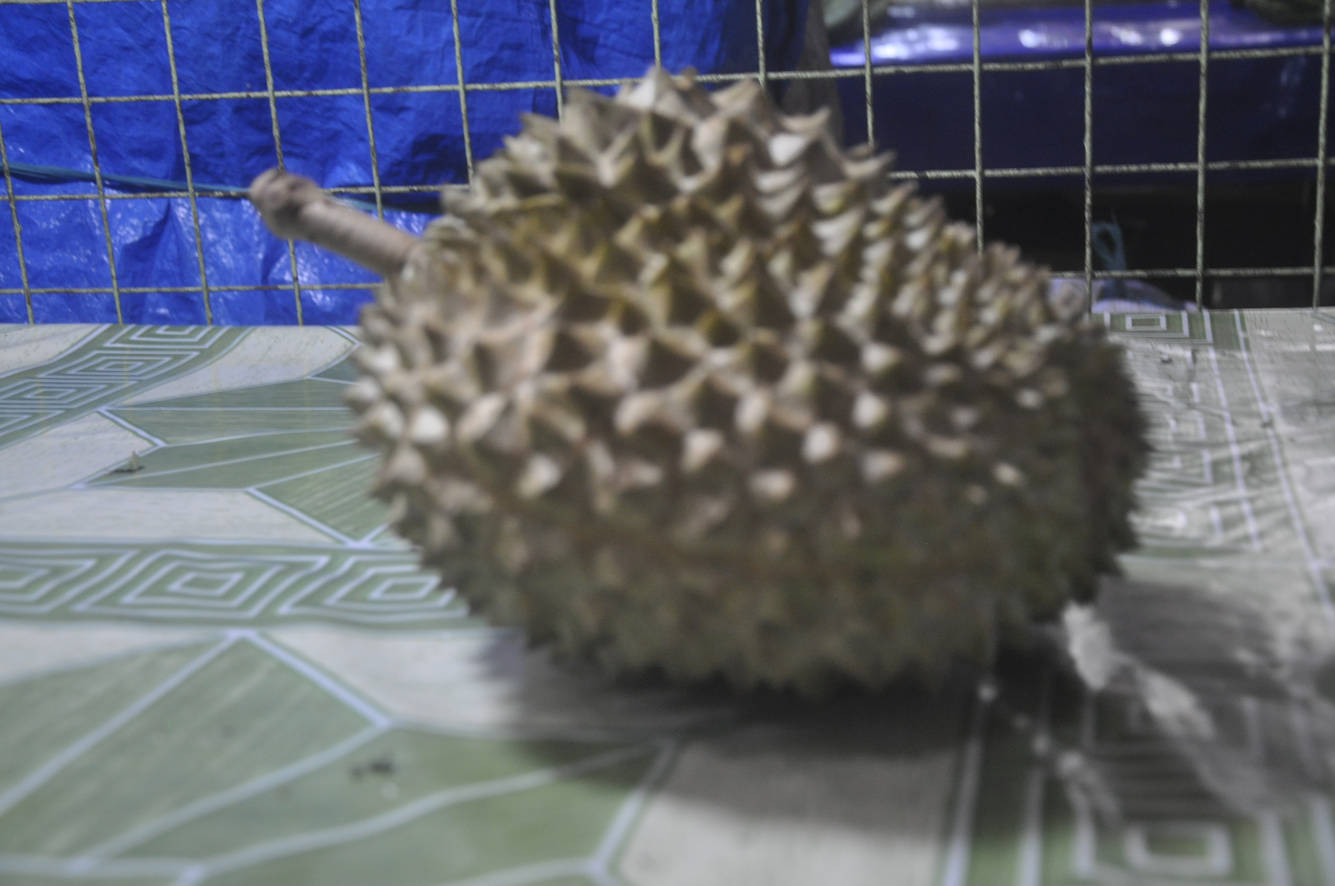mature: (251, 70, 1148, 695)
